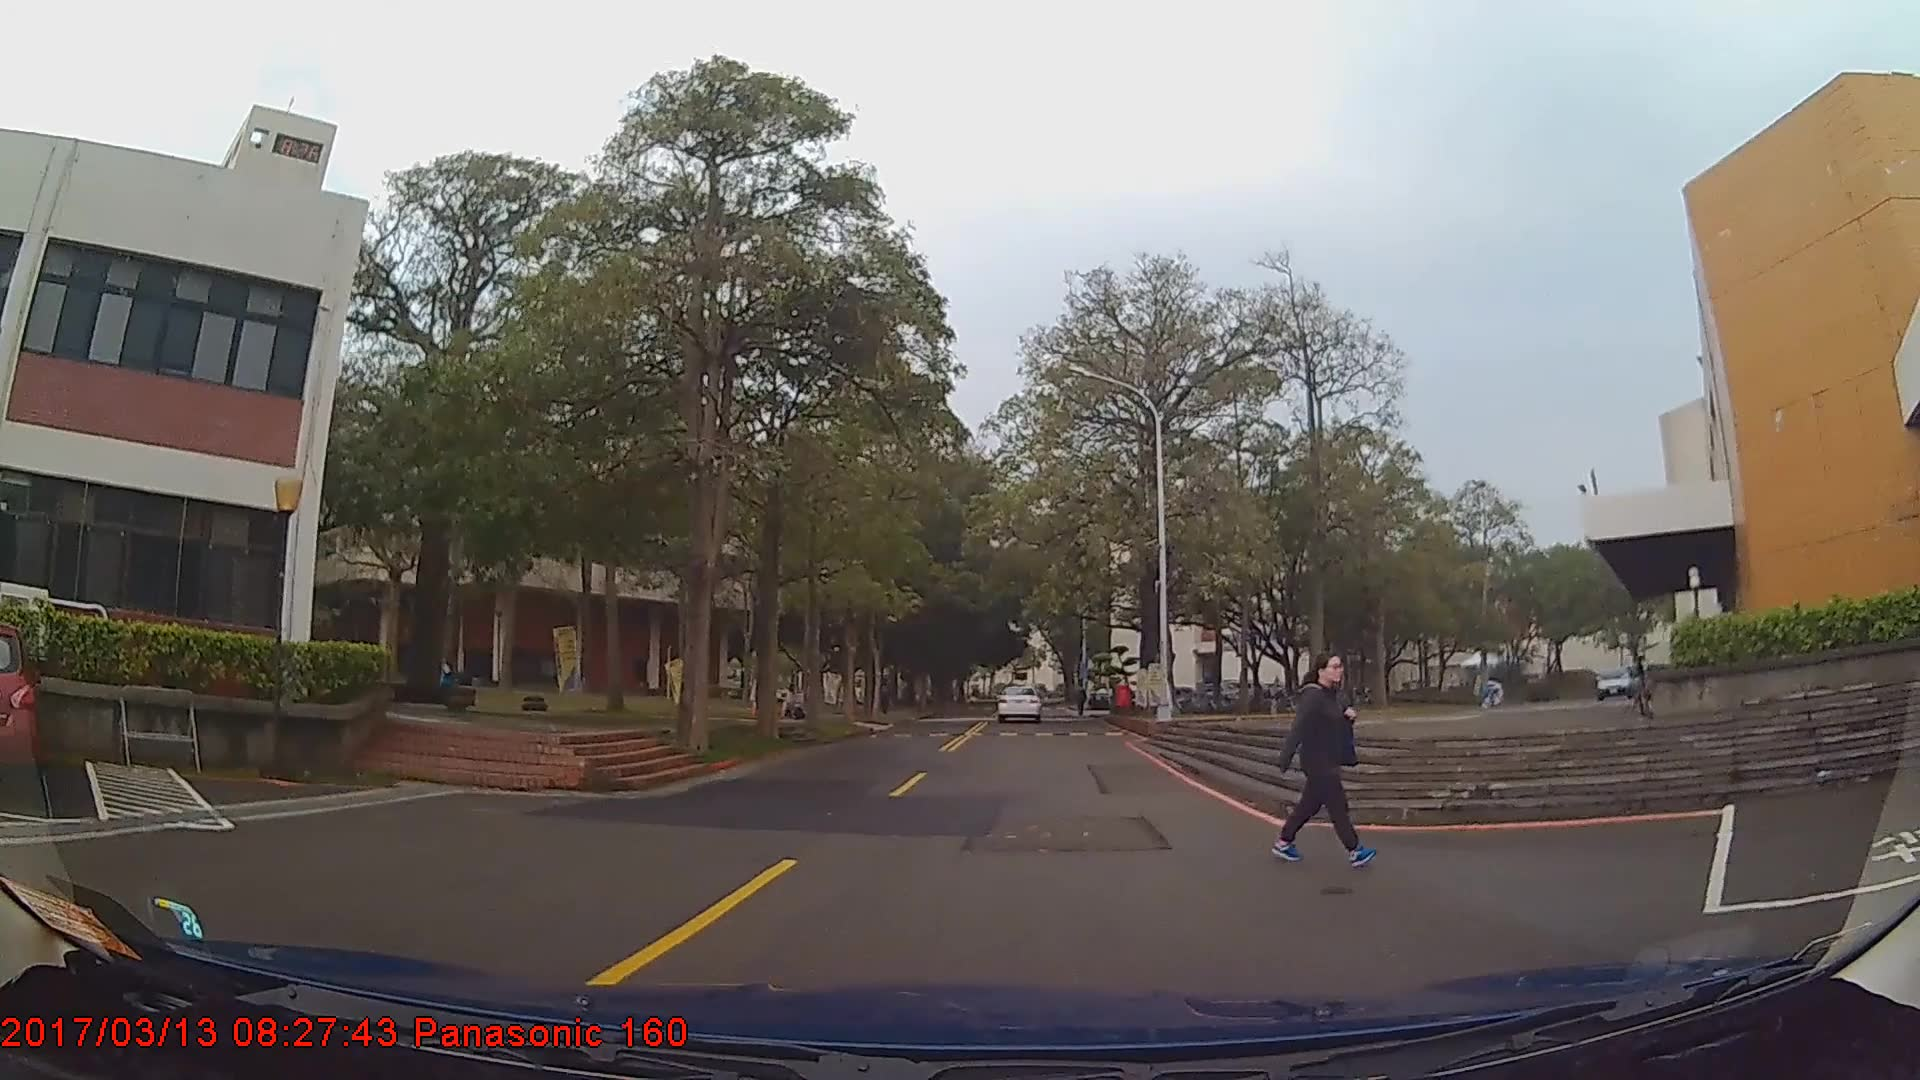pedestrian: (1269, 645, 1377, 864)
vehicle: (0, 613, 40, 803), (995, 681, 1042, 722)
